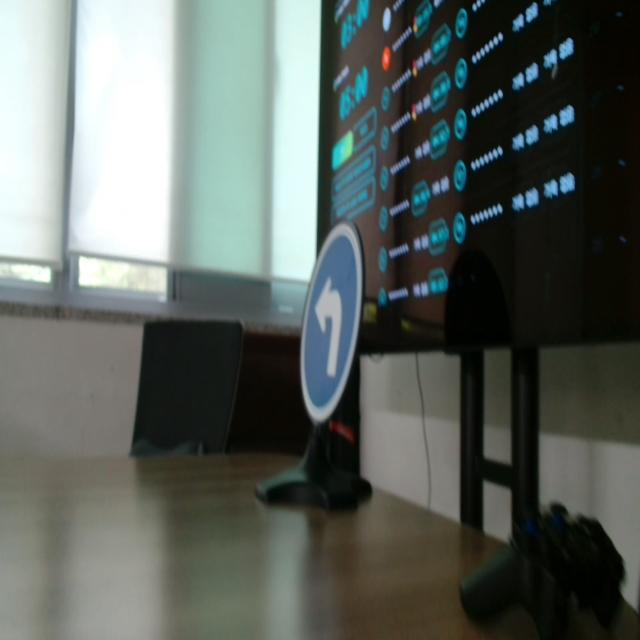left_direction: (293, 215, 366, 423)
